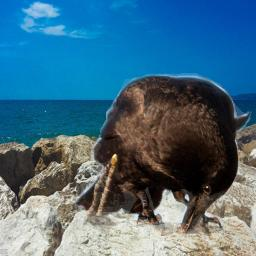Crow: (73, 73, 255, 236)
